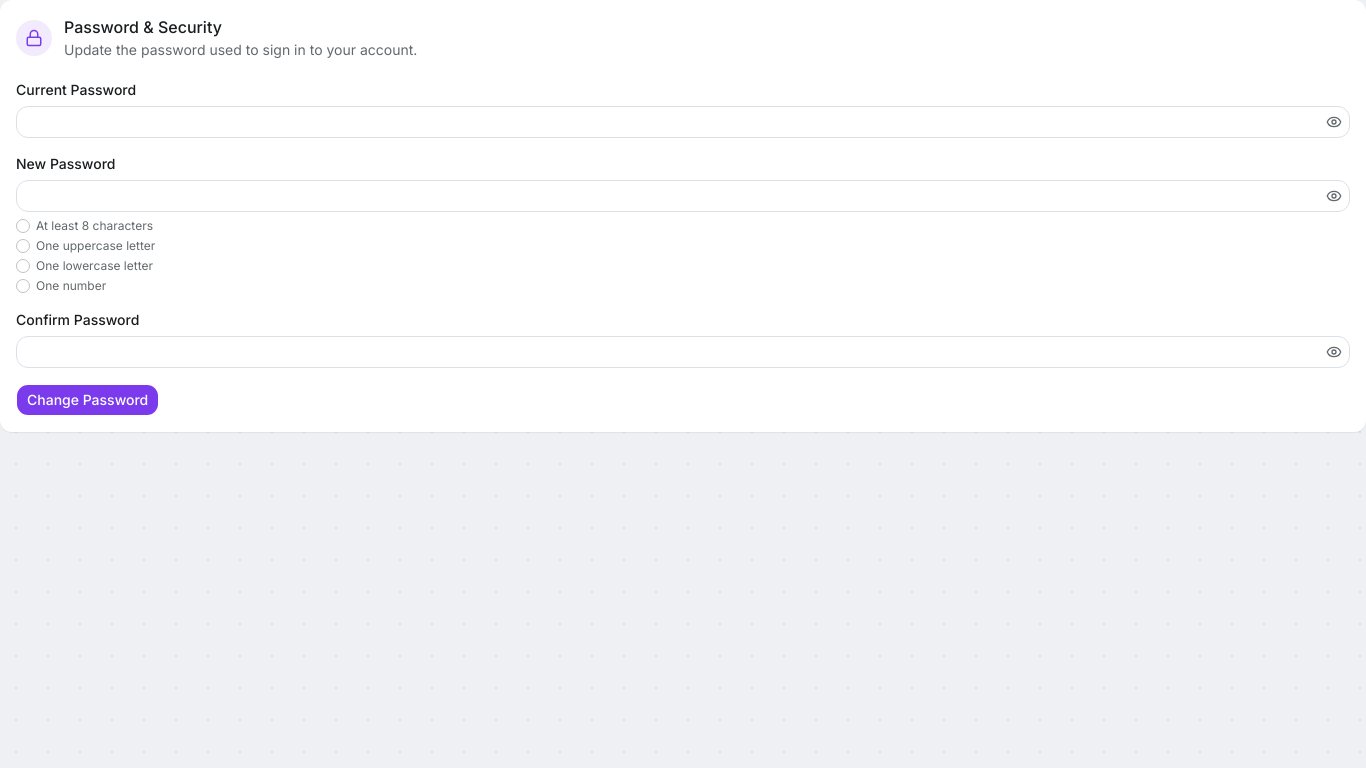
Test: ChangePasswordForm › shows a specific message when the API rejects the new password as unchanged
In the password field labelled "Current Password": {"x": 683, "y": 122} [16,106,1350,138], type "current-pass"
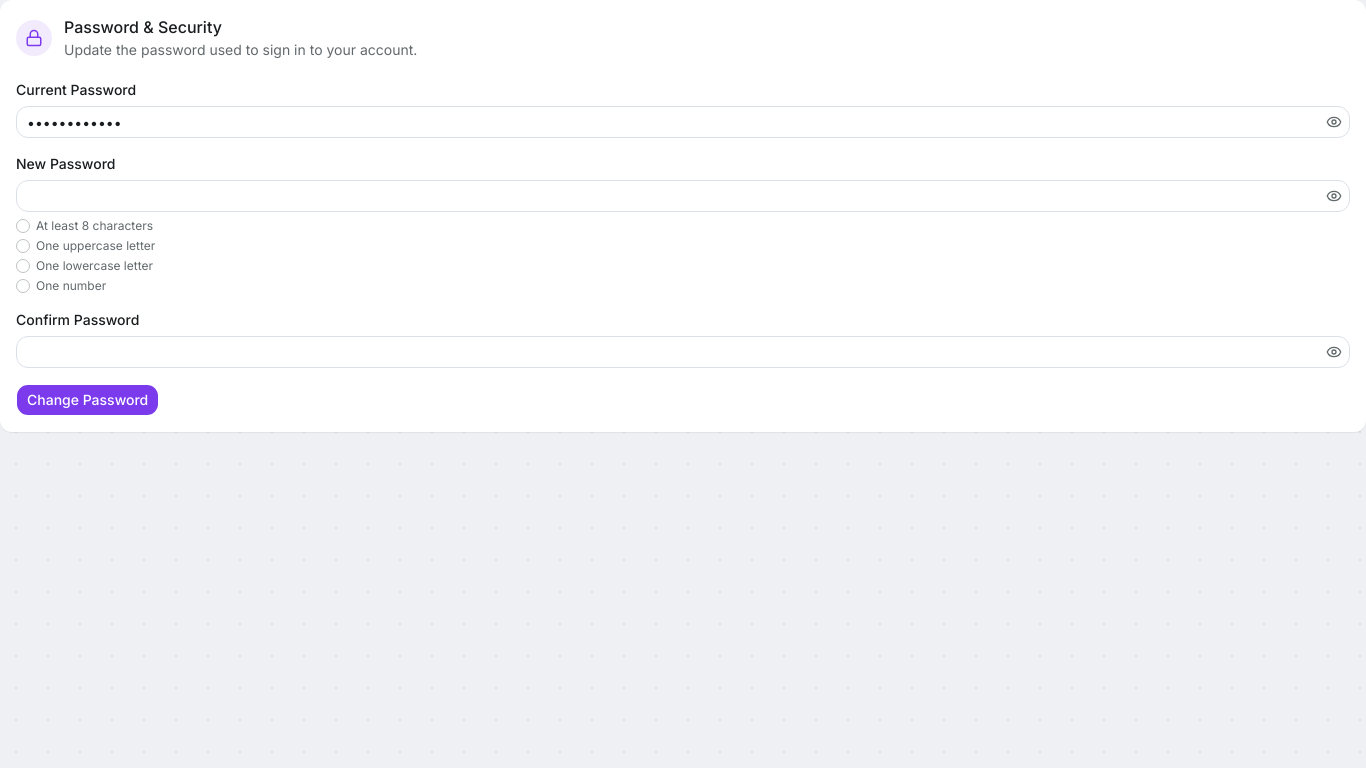
In the password field labelled "New Password": {"x": 683, "y": 196} [16,180,1350,212], type "Current-pass1"
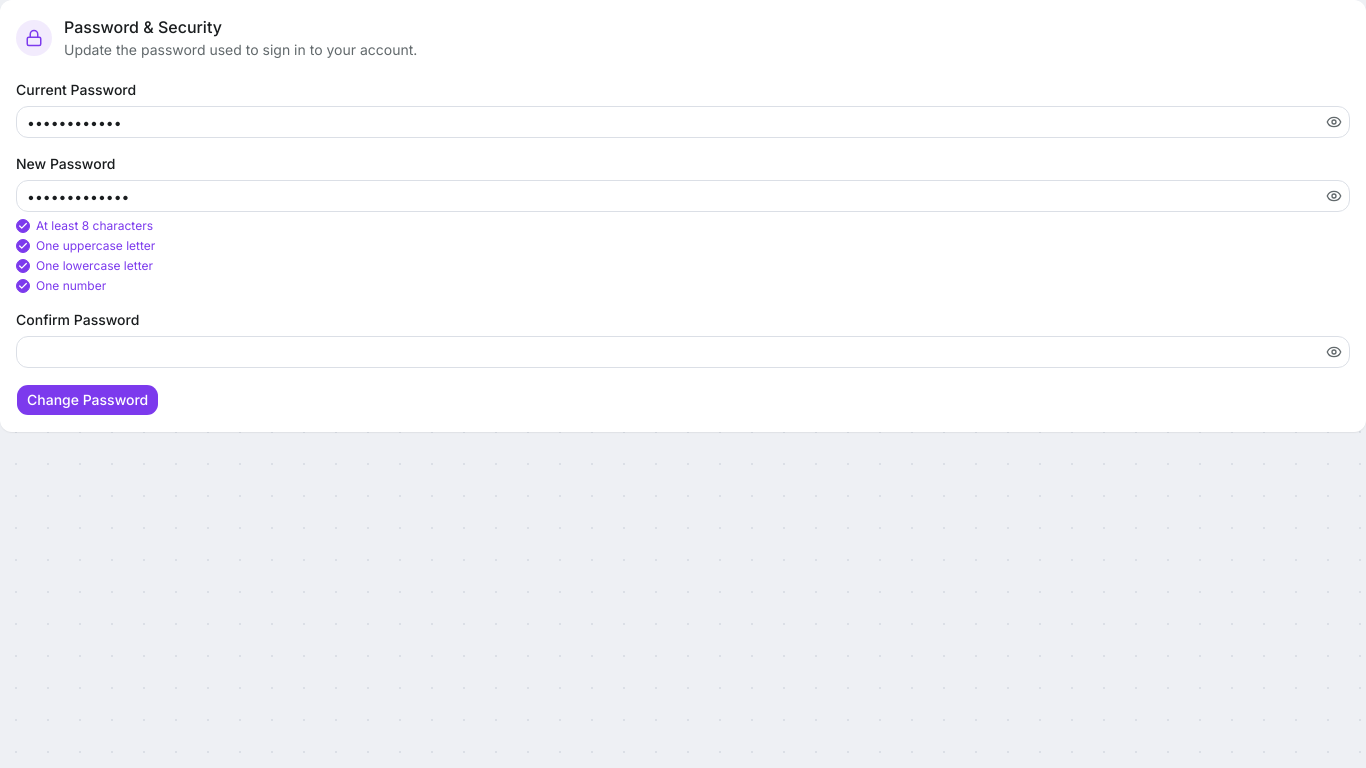
In the password field labelled "Confirm Password": {"x": 683, "y": 352} [16,336,1350,368], type "Current-pass1"
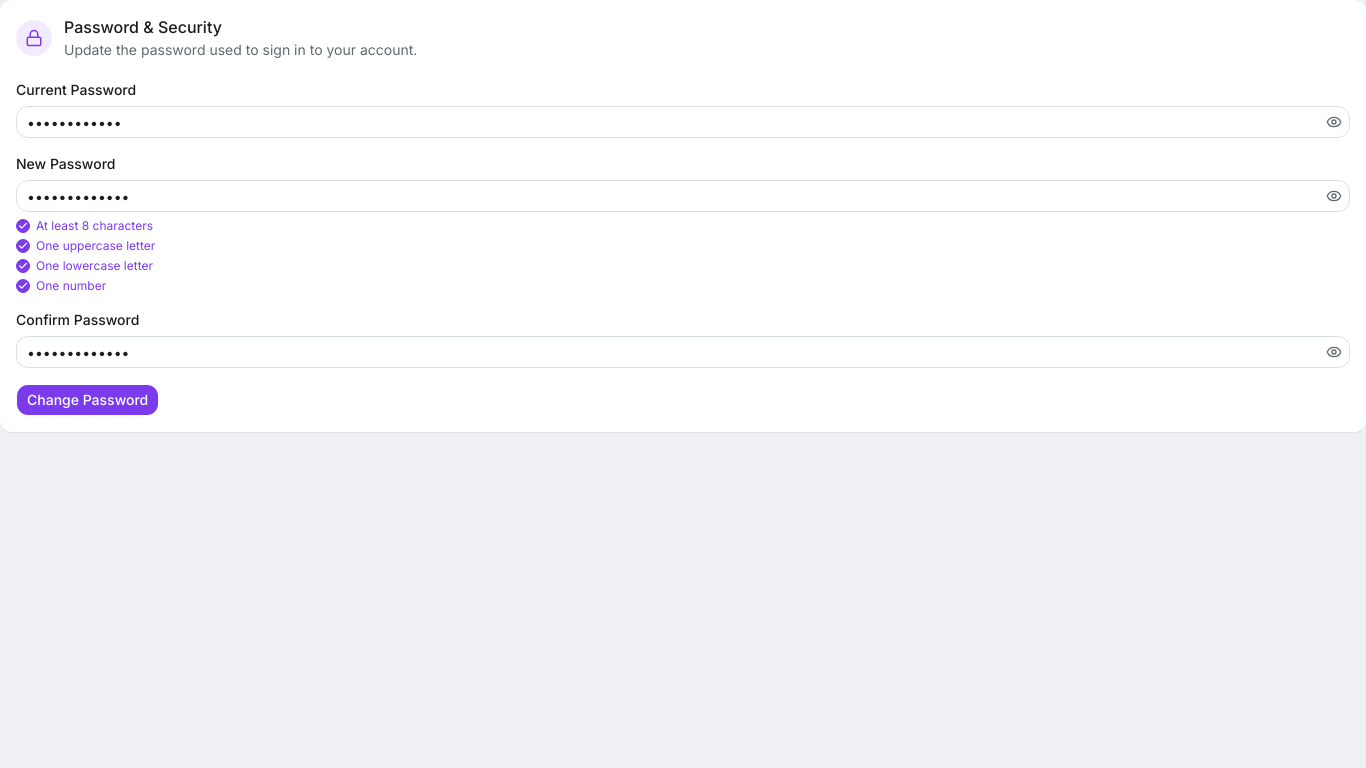
Click the button "Change Password": {"x": 88, "y": 400} [16,384,159,416]
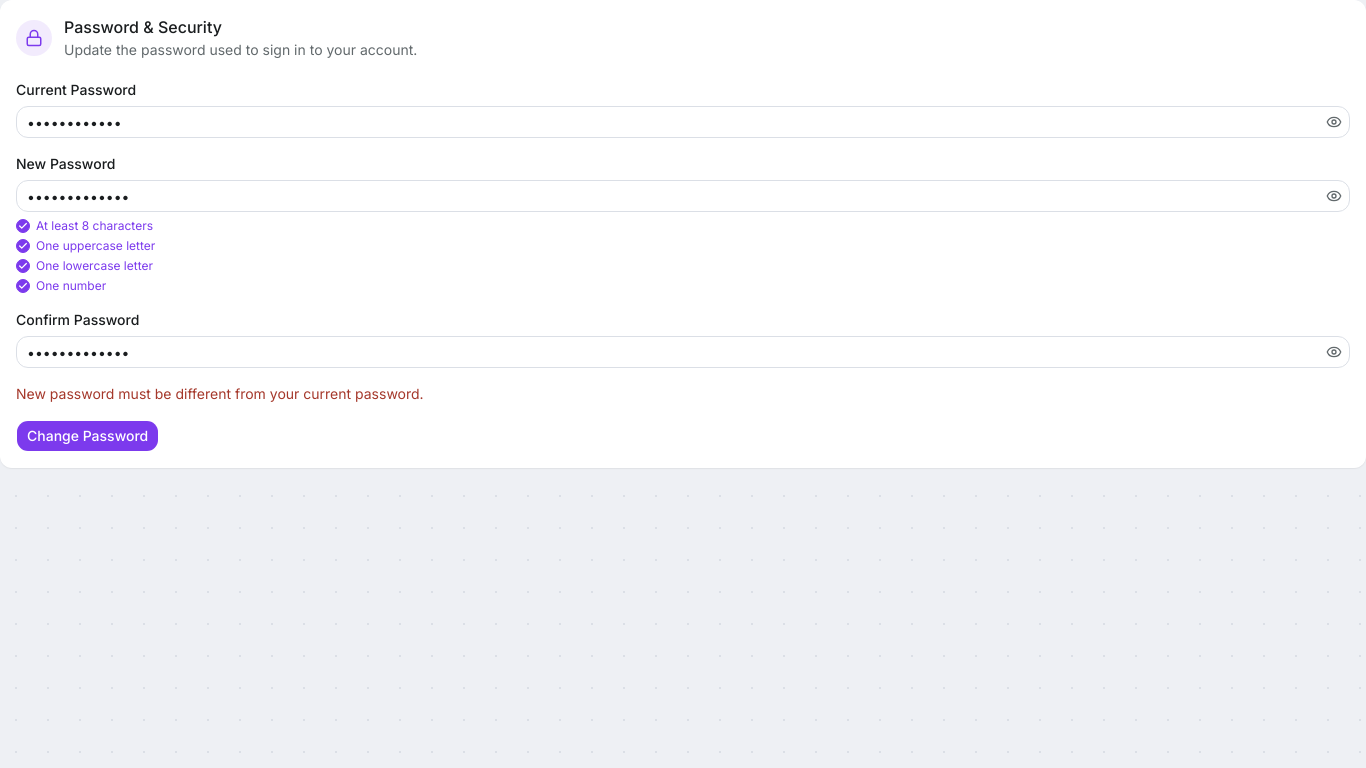
Result: the text "New password must be different from your current password." is shown at [16,385,424,402]
